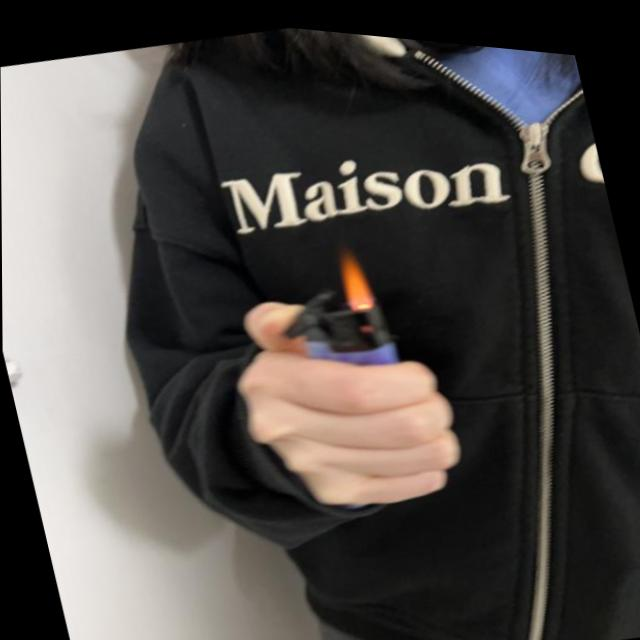Fire: (331, 231, 377, 306)
